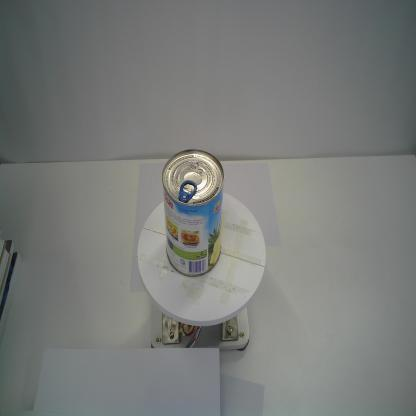Canned Food: (161, 148, 225, 278)
